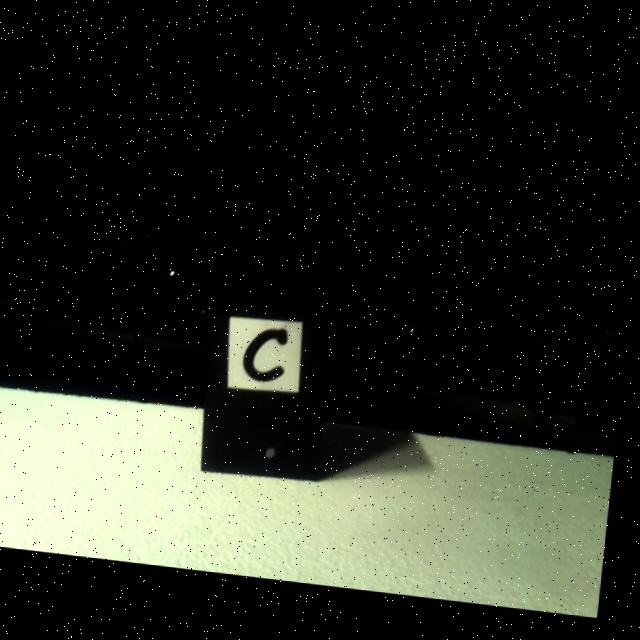C: (246, 323, 292, 378)
